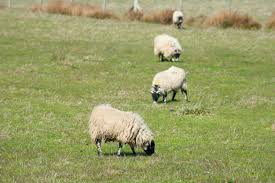sheep: (89, 102, 159, 160), (151, 66, 189, 105), (153, 33, 186, 64), (171, 9, 188, 31)
